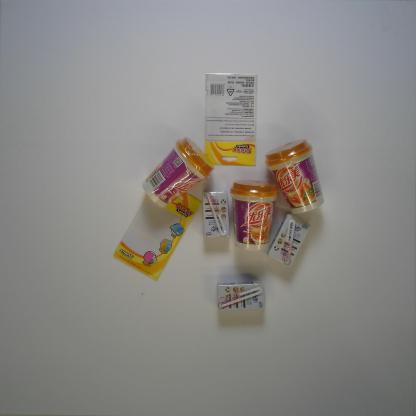Instant Drink: (140, 136, 215, 210), (264, 137, 325, 215), (229, 179, 280, 252)
Milk: (267, 213, 313, 268), (216, 280, 266, 312), (201, 189, 230, 240)
Stationery: (112, 190, 203, 282), (204, 72, 260, 168)
